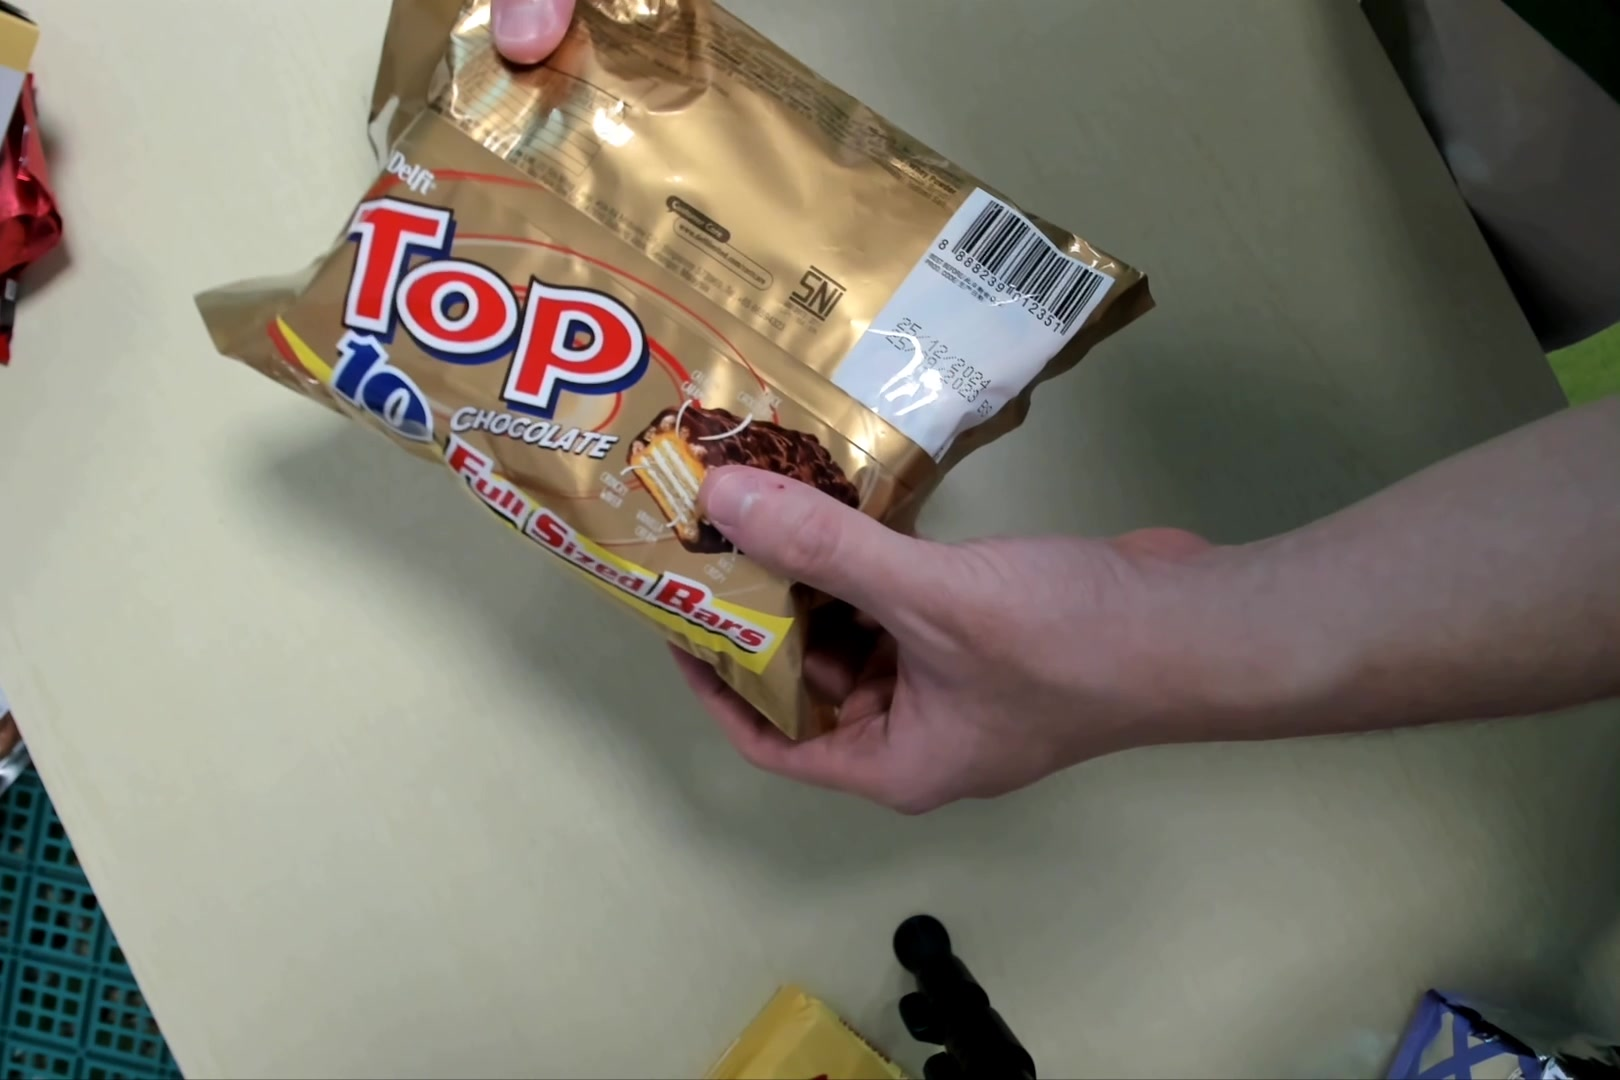SweetsChocolatesOthers_100-199g_NonHalal_NonHealthy: (196, 1, 1139, 733)
